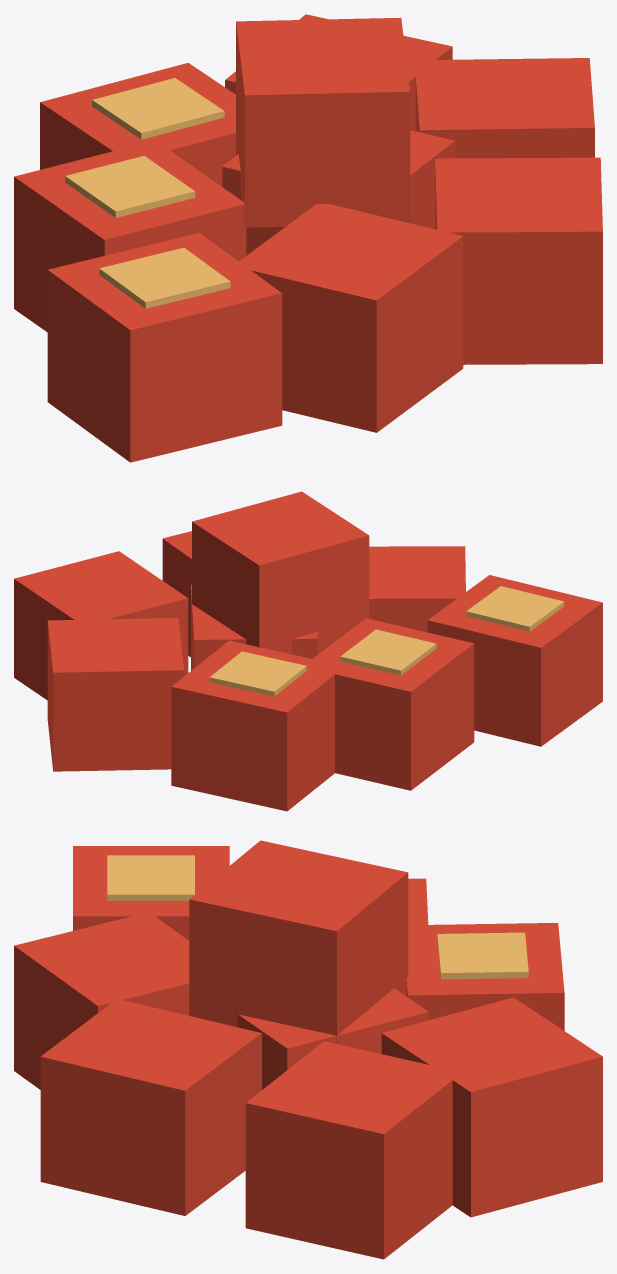
File: FTF_Ingredient_Chopped_Tomato.glb
The picture shows the model from 3 angles, top to bottom: view 1: azimuth 30°, elevation 25°; view 2: azimuth 150°, elevation 25°; view 3: azimuth 270°, elevation 25°; orthographic projection. The views are drawn at different scales.
Visible parts, largest first — view 1: Tomato_Piece_00, Tomato_Accent_00; view 2: Tomato_Piece_00, Tomato_Accent_00; view 3: Tomato_Piece_00, Tomato_Accent_00.
Part boxes in pixels (left/top/right/bottom): Tomato_Piece_00: left=14, top=14, right=602, bottom=462; Tomato_Accent_00: left=65, top=78, right=230, bottom=308; Tomato_Piece_00: left=14, top=491, right=602, bottom=811; Tomato_Accent_00: left=209, top=586, right=564, bottom=696; Tomato_Piece_00: left=14, top=840, right=602, bottom=1259; Tomato_Accent_00: left=107, top=855, right=528, bottom=979.
Bounding box in the file's own units: 0.7395 × 0.275 × 0.6389.
